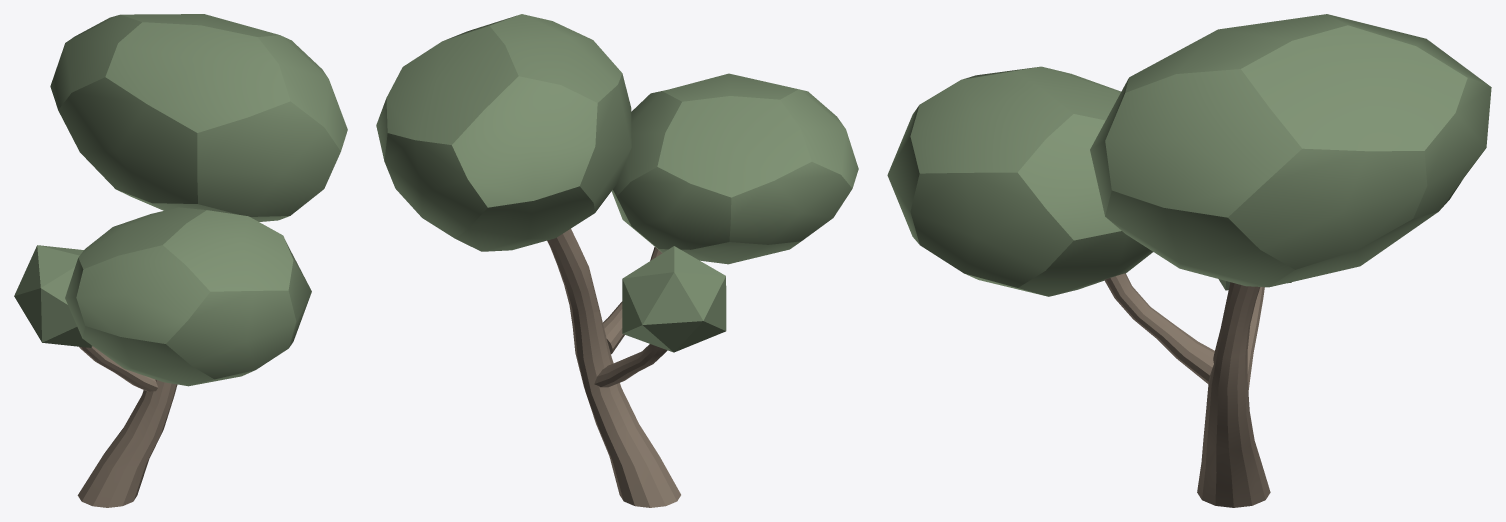
Rendered from tree_2.fbx.
3 views of the same model, side by side, from view 1: azimuth 30°, elevation 25°; view 2: azimuth 150°, elevation 25°; view 3: azimuth 270°, elevation 25° (orthographic). The views are drawn at different scales.
Visible parts, largest first — view 1: tree_2; view 2: tree_2; view 3: tree_2.
Boxes of the visible parts, <box> form: tree_2: <box>14,14,347,507</box>; tree_2: <box>376,14,858,507</box>; tree_2: <box>887,14,1491,507</box>.
Size of the model in its own units: 11.51 by 14.52 by 13.84.
